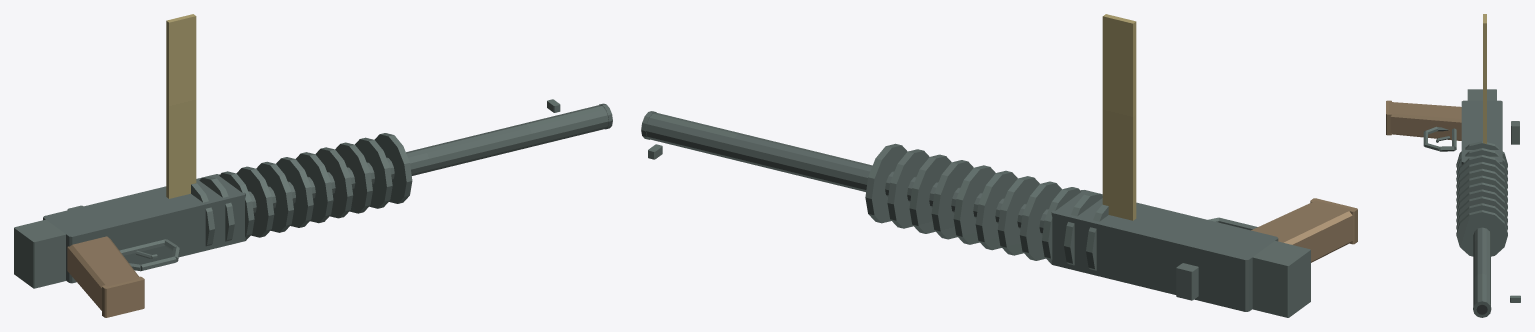
File: weapon-hotchkiss.glb
3 renders of one model, left to right at view 1: azimuth 30°, elevation 25°; view 2: azimuth 150°, elevation 25°; view 3: azimuth 270°, elevation 25°, orthographic. The views are drawn at different scales.
Parts seen in each view (by area): view 1: weapon-hotchkiss/full-depth-receiver, weapon-hotchkiss/round-barrel, weapon-hotchkiss/thin-side-feed-strip, weapon-hotchkiss/unstocked-rear-end, weapon-hotchkiss/distinct-eight-sided-pistol-grip, weapon-hotchkiss/cooling-fin-9, weapon-hotchkiss/cooling-fin-8, weapon-hotchkiss/cooling-fin-3, weapon-hotchkiss/cooling-fin-6, weapon-hotchkiss/cooling-fin-5, weapon-hotchkiss/cooling-fin-4, weapon-hotchkiss/cooling-fin-7 (+5 smaller); view 2: weapon-hotchkiss/full-depth-receiver, weapon-hotchkiss/round-barrel, weapon-hotchkiss/thin-side-feed-strip, weapon-hotchkiss/unstocked-rear-end, weapon-hotchkiss/distinct-eight-sided-pistol-grip, weapon-hotchkiss/cooling-fin-8, weapon-hotchkiss/cooling-fin-5, weapon-hotchkiss/cooling-fin-10, weapon-hotchkiss/cooling-fin-3, weapon-hotchkiss/cooling-fin-4, weapon-hotchkiss/cooling-fin-7, weapon-hotchkiss/cooling-fin-9 (+5 smaller); view 3: weapon-hotchkiss/distinct-eight-sided-pistol-grip, weapon-hotchkiss/full-depth-receiver, weapon-hotchkiss/cooling-fin-10, weapon-hotchkiss/round-barrel, weapon-hotchkiss/thin-side-feed-strip, weapon-hotchkiss/cooling-fin-4, weapon-hotchkiss/cooling-fin-8, weapon-hotchkiss/cooling-fin-5, weapon-hotchkiss/cooling-fin-7, weapon-hotchkiss/cooling-fin-9, weapon-hotchkiss/cooling-fin-2, weapon-hotchkiss/cooling-fin-3 (+7 smaller).
Part boxes in pixels (bbox=[...]): weapon-hotchkiss/full-depth-receiver: bbox=[43, 174, 245, 283]; weapon-hotchkiss/round-barrel: bbox=[248, 105, 608, 213]; weapon-hotchkiss/thin-side-feed-strip: bbox=[166, 14, 196, 198]; weapon-hotchkiss/unstocked-rear-end: bbox=[14, 219, 65, 288]; weapon-hotchkiss/distinct-eight-sided-pistol-grip: bbox=[67, 236, 139, 310]; weapon-hotchkiss/cooling-fin-9: bbox=[355, 137, 392, 208]; weapon-hotchkiss/cooling-fin-8: bbox=[335, 142, 372, 213]; weapon-hotchkiss/cooling-fin-3: bbox=[236, 166, 274, 237]; weapon-hotchkiss/cooling-fin-6: bbox=[296, 152, 333, 223]; weapon-hotchkiss/cooling-fin-5: bbox=[276, 157, 313, 227]; weapon-hotchkiss/cooling-fin-4: bbox=[256, 161, 293, 232]; weapon-hotchkiss/cooling-fin-7: bbox=[315, 147, 353, 218]; weapon-hotchkiss/full-depth-receiver: bbox=[1051, 190, 1278, 311]; weapon-hotchkiss/round-barrel: bbox=[646, 112, 1048, 234]; weapon-hotchkiss/thin-side-feed-strip: bbox=[1102, 14, 1136, 220]; weapon-hotchkiss/unstocked-rear-end: bbox=[1252, 241, 1310, 317]; weapon-hotchkiss/distinct-eight-sided-pistol-grip: bbox=[1251, 200, 1352, 262]; weapon-hotchkiss/cooling-fin-8: bbox=[909, 154, 951, 233]; weapon-hotchkiss/cooling-fin-5: bbox=[975, 170, 1017, 250]; weapon-hotchkiss/cooling-fin-10: bbox=[865, 143, 907, 223]; weapon-hotchkiss/cooling-fin-3: bbox=[1019, 181, 1061, 260]; weapon-hotchkiss/cooling-fin-4: bbox=[997, 176, 1039, 255]; weapon-hotchkiss/cooling-fin-7: bbox=[931, 160, 973, 239]; weapon-hotchkiss/cooling-fin-9: bbox=[887, 149, 929, 228]; weapon-hotchkiss/distinct-eight-sided-pistol-grip: bbox=[1389, 102, 1461, 140]; weapon-hotchkiss/full-depth-receiver: bbox=[1461, 100, 1502, 164]; weapon-hotchkiss/cooling-fin-10: bbox=[1456, 210, 1507, 256]; weapon-hotchkiss/round-barrel: bbox=[1473, 227, 1490, 306]; weapon-hotchkiss/thin-side-feed-strip: bbox=[1483, 14, 1486, 143]; weapon-hotchkiss/cooling-fin-4: bbox=[1456, 168, 1507, 195]; weapon-hotchkiss/cooling-fin-8: bbox=[1456, 196, 1507, 223]; weapon-hotchkiss/cooling-fin-5: bbox=[1456, 175, 1507, 202]; weapon-hotchkiss/cooling-fin-7: bbox=[1456, 189, 1507, 216]; weapon-hotchkiss/cooling-fin-9: bbox=[1456, 203, 1507, 230]; weapon-hotchkiss/cooling-fin-2: bbox=[1456, 155, 1507, 182]; weapon-hotchkiss/cooling-fin-3: bbox=[1456, 162, 1507, 188].
Bounding box in the file's own units: 0.7097 × 0.27 × 0.1985.
4 materials, 4 textured.
